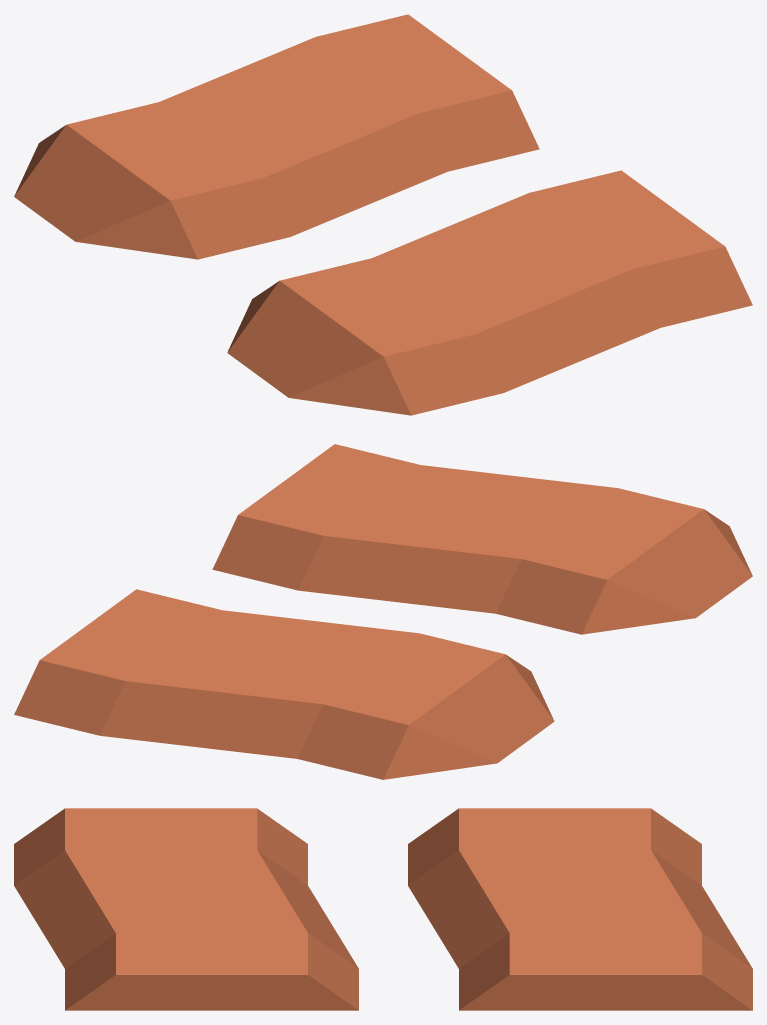
The picture shows the model from 3 angles, top to bottom: view 1: azimuth 30°, elevation 25°; view 2: azimuth 150°, elevation 25°; view 3: azimuth 270°, elevation 25°; orthographic projection. The views are drawn at different scales.
Parts seen in each view (by area): view 1: crops_dirtDoubleRowEnd; view 2: crops_dirtDoubleRowEnd; view 3: crops_dirtDoubleRowEnd.
Part boxes in pixels (x1,y1,x2,y2): crops_dirtDoubleRowEnd: (14, 14, 752, 415); crops_dirtDoubleRowEnd: (14, 444, 752, 779); crops_dirtDoubleRowEnd: (14, 808, 752, 1010).
Bounding box in the file's own units: 0.6 × 0.05 × 0.938.
